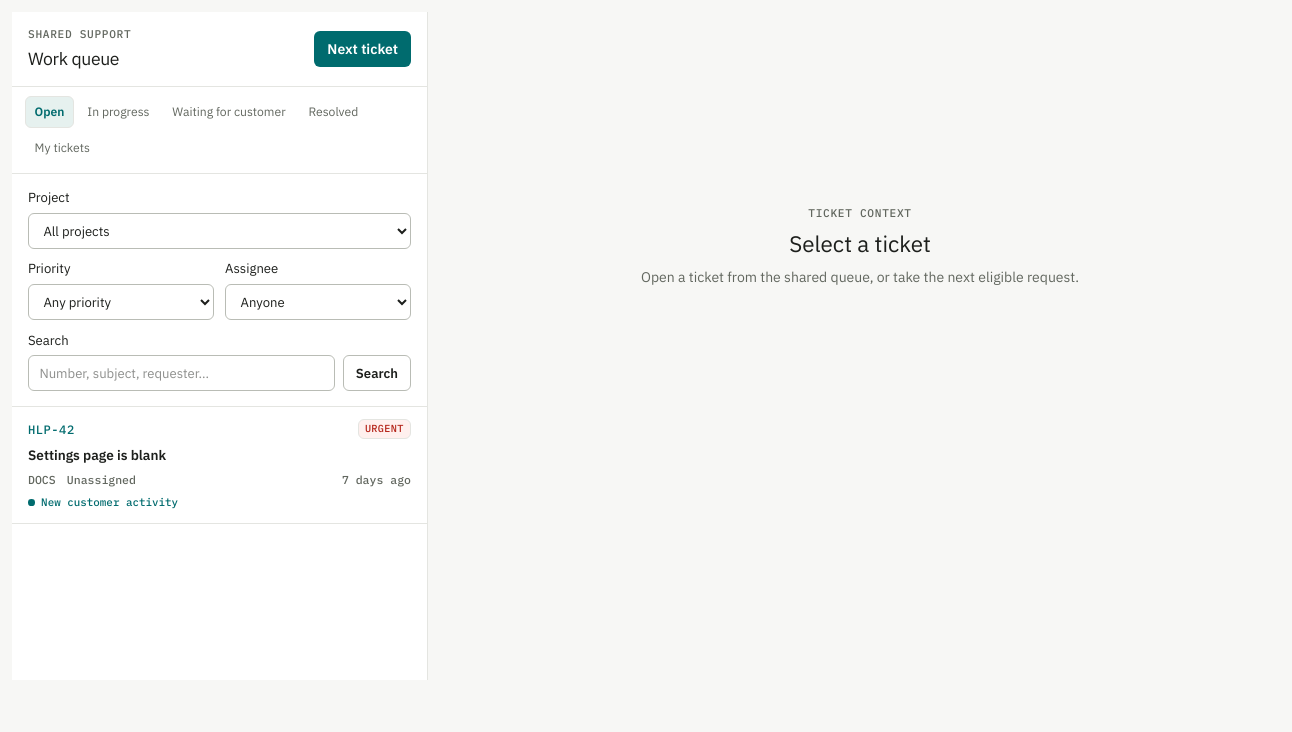
Test: shows a failed email delivery and queues a retry without a ticket version
Click the button that starts with "HLP-42": (51,429) [12,406,427,524]
(page scrolled)
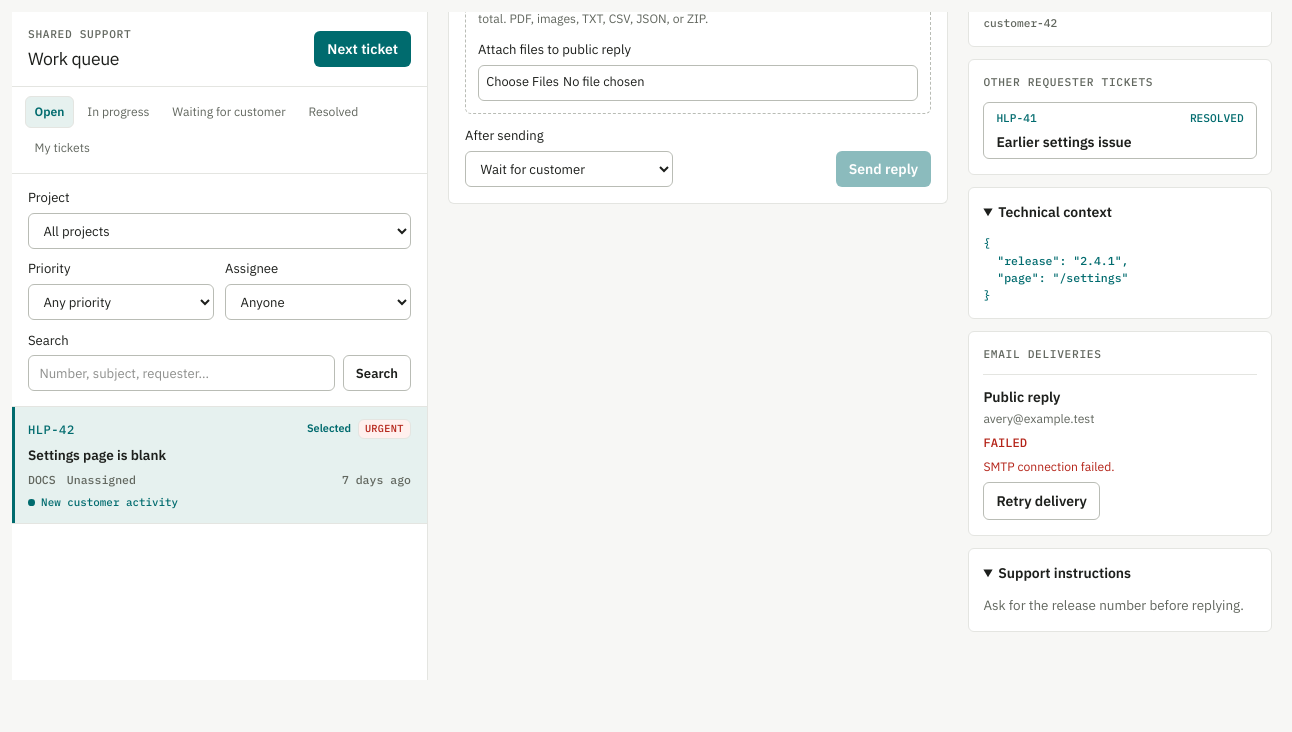
Result: the text "SMTP connection failed." is shown at [983,459,1115,474]
Click the button "Retry delivery": (1042,501) [983,482,1100,520]
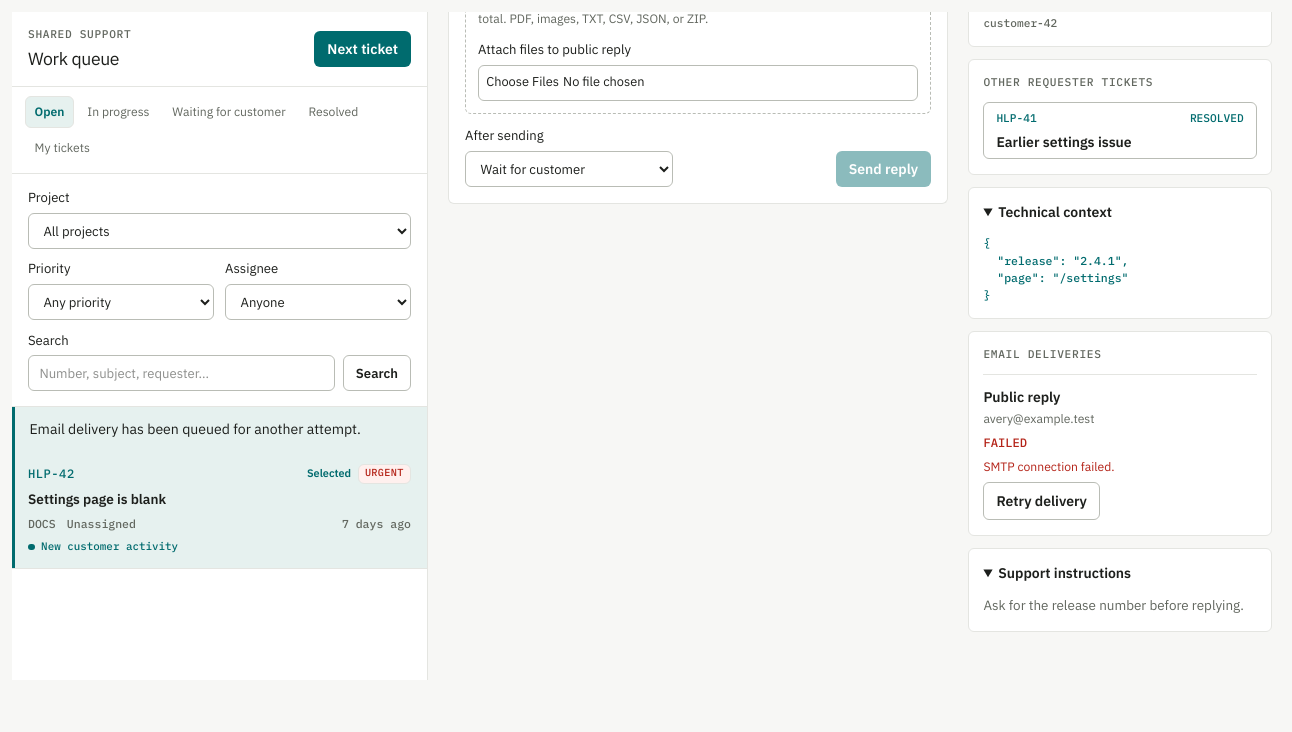
Result: the text "Email delivery has been queued for another attempt." is shown at [12,406,427,451]
